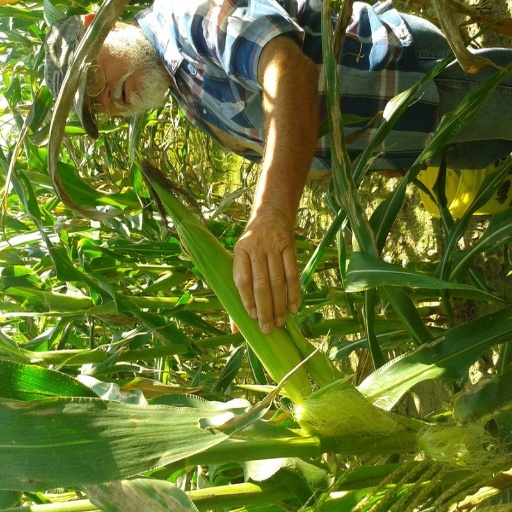hand: (232, 197, 305, 325), (376, 167, 408, 179)
